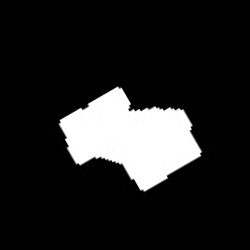spot: (61, 85, 202, 190)
